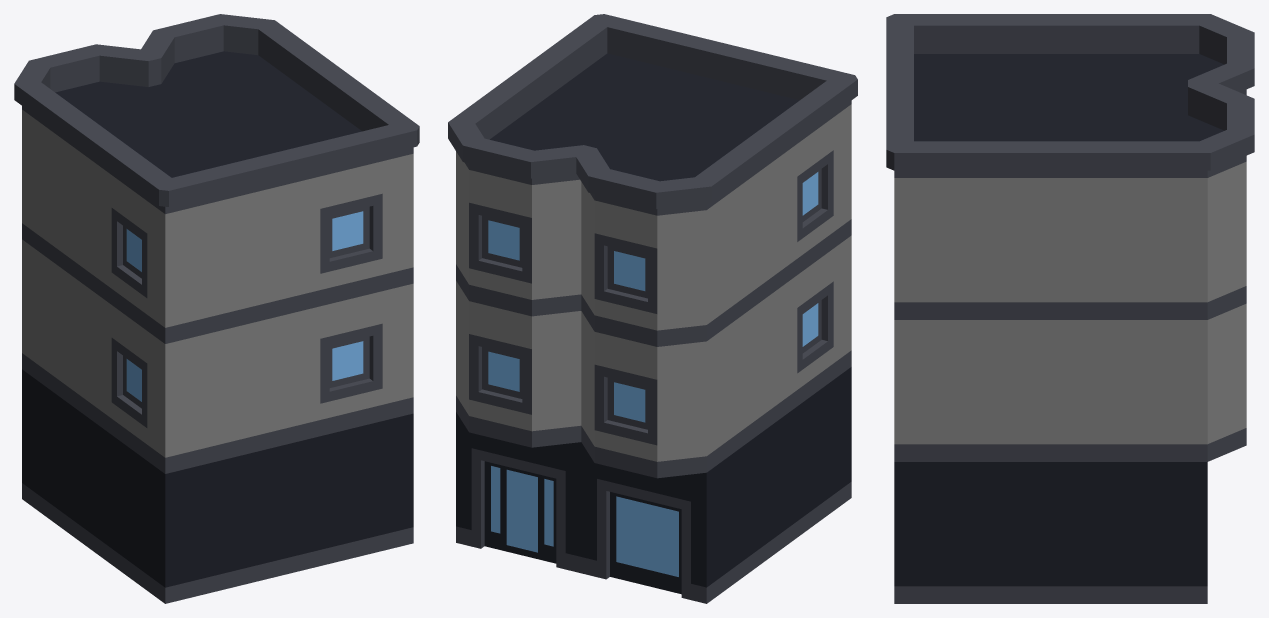
File: Devide_by_32.obj
3 views of the same model, side by side, from view 1: azimuth 30°, elevation 25°; view 2: azimuth 150°, elevation 25°; view 3: azimuth 270°, elevation 25° (orthographic). The views are drawn at different scales.
Visible parts, largest first — view 1: Building; view 2: Building; view 3: Building.
Boxes of the visible parts, x1,y1,x2,y2 form: Building: (14, 14, 419, 603); Building: (448, 14, 857, 603); Building: (886, 14, 1254, 603).
Bounding box in the file's own units: 0.0262 × 0.04 × 0.0294.
